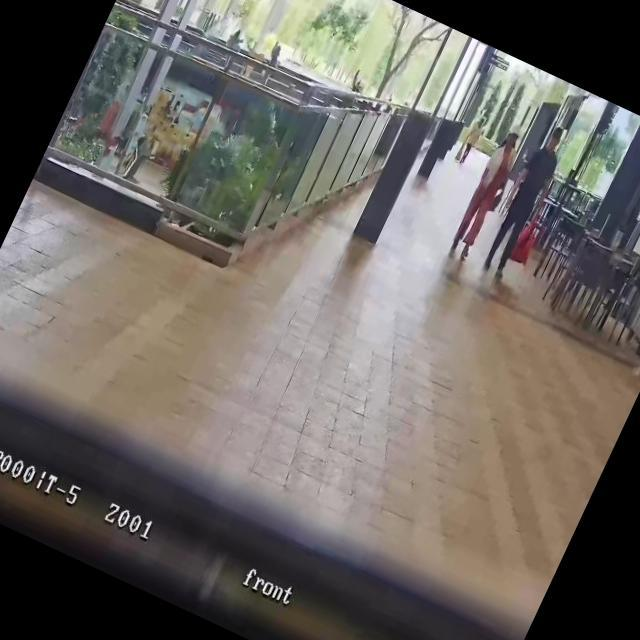person: (476, 120, 574, 284), (444, 126, 530, 266), (454, 116, 488, 166)
